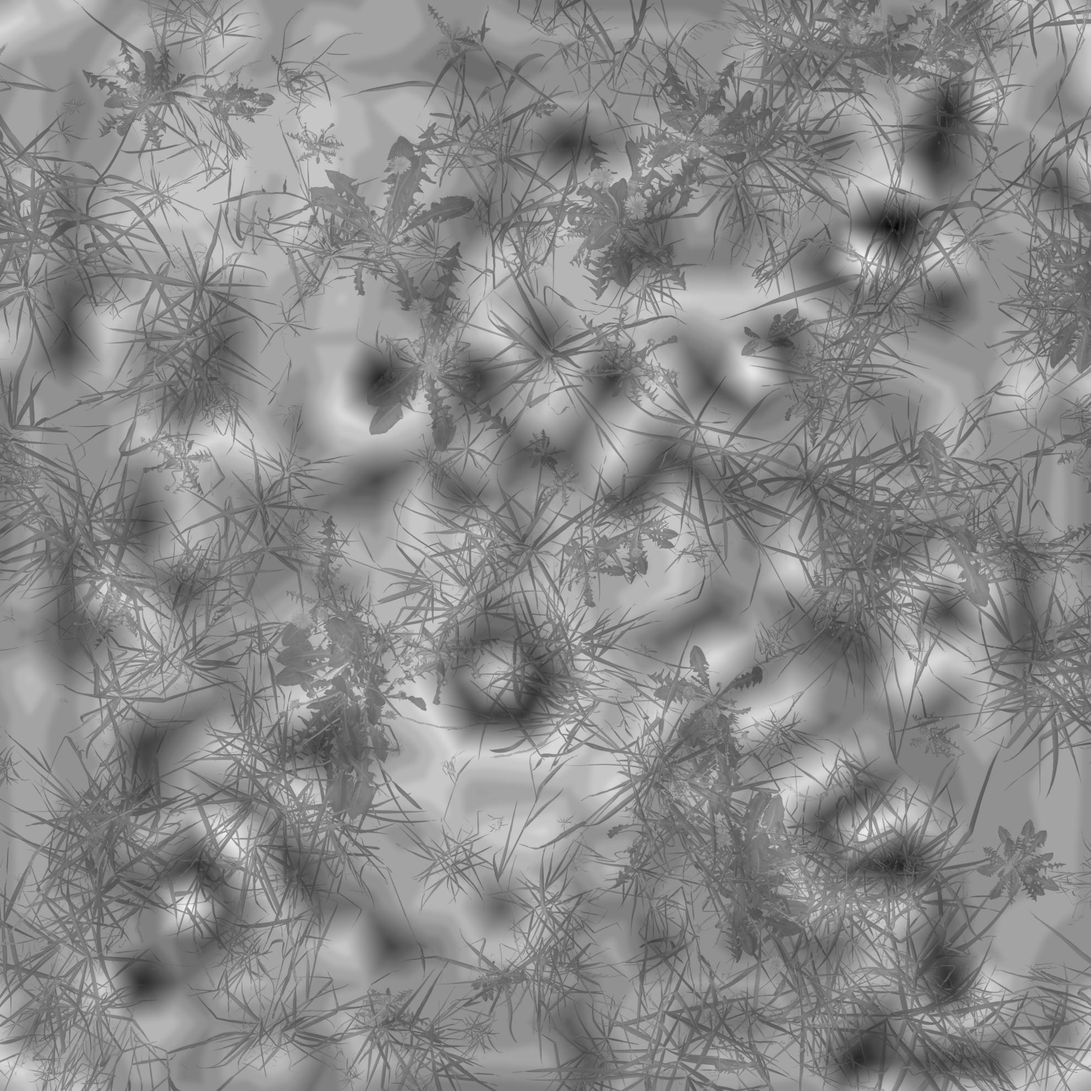landmine: (440, 610, 564, 736)
